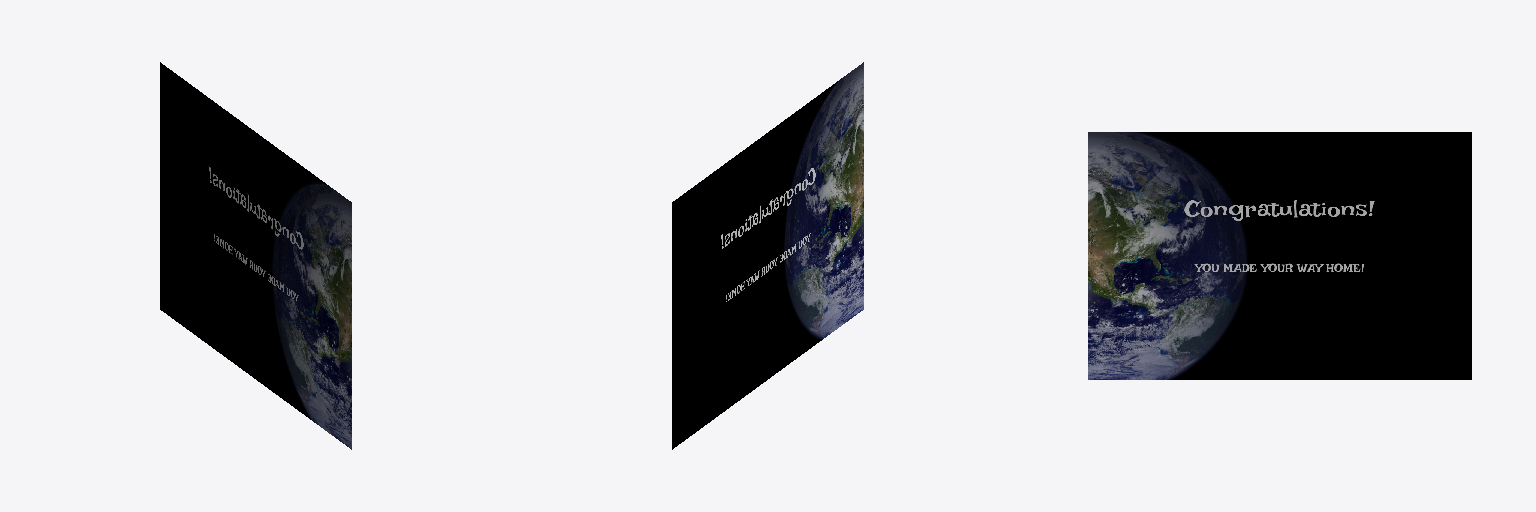
3 views of the same model, side by side, from view 1: azimuth 30°, elevation 25°; view 2: azimuth 150°, elevation 25°; view 3: azimuth 270°, elevation 25° (orthographic).
Visible parts, largest first — view 1: endscreen; view 2: endscreen; view 3: endscreen.
Part boxes in pixels (x1,y1,x2,y2): endscreen: (160, 62, 351, 449); endscreen: (672, 62, 863, 449); endscreen: (1088, 132, 1471, 379).
Bounding box in the file's own units: 0 × 1 × 1.41.
Materials: 1 (1 with a texture image).